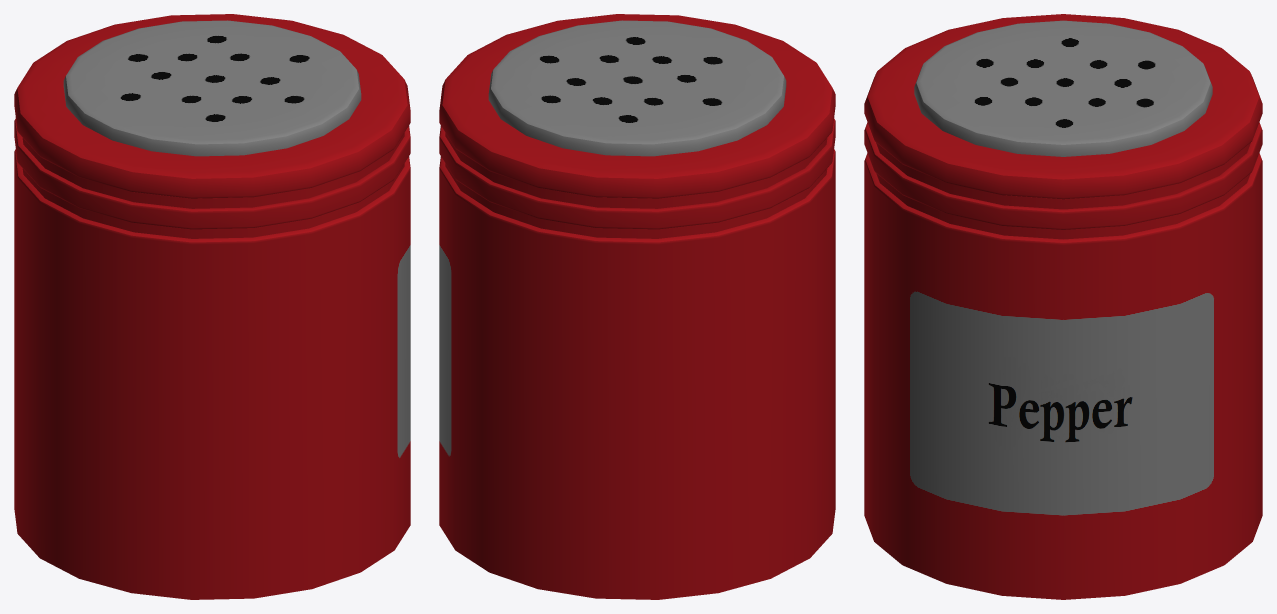
File: pepperShaker.fbx
The picture shows the model from 3 angles, left to right: view 1: azimuth 30°, elevation 25°; view 2: azimuth 150°, elevation 25°; view 3: azimuth 270°, elevation 25°; orthographic projection.
Parts seen in each view (by area): view 1: pCylinder1; view 2: pCylinder1; view 3: pCylinder1.
Part boxes in pixels (x1,y1,x2,y2): pCylinder1: (14,14,410,599); pCylinder1: (439,14,835,599); pCylinder1: (864,14,1262,599).
Size of the model in its own units: 2 by 2.41 by 2.
Materials: 1 (1 with a texture image).
